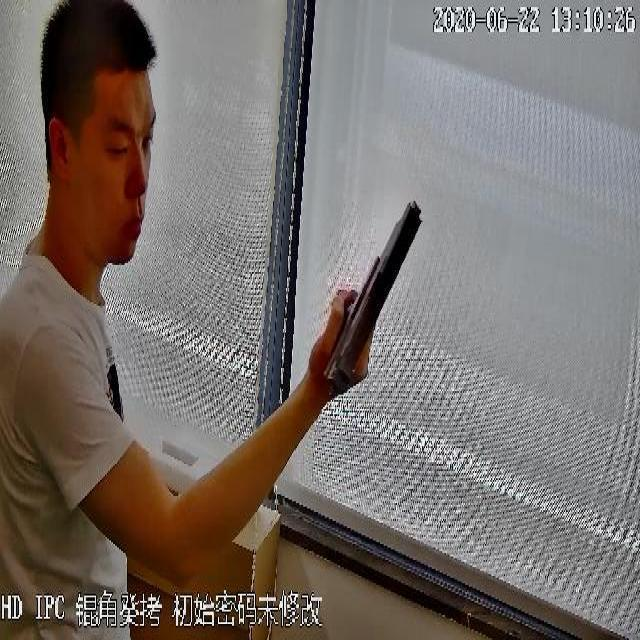pistol: (322, 200, 424, 402)
